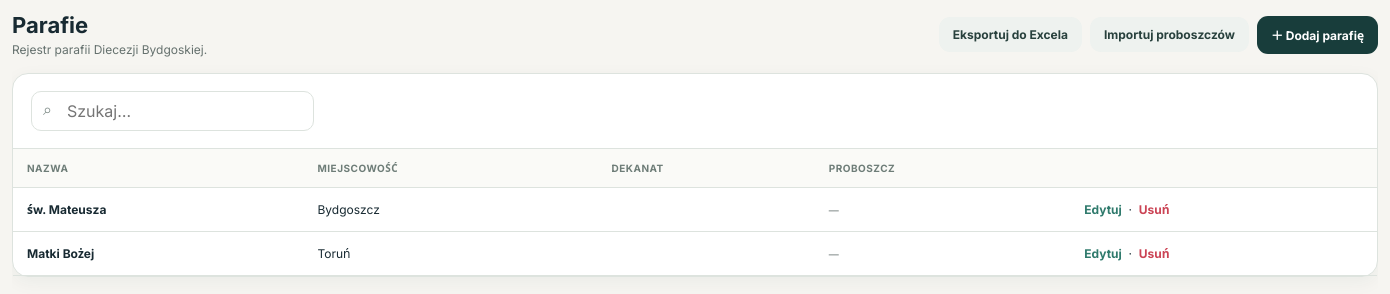
it: ParishesListComponent › filters the list by name or city while typing
This screenshot has width=1390, height=294.
Step 1. Type "toruń" into the field with placeholder "Szukaj…" → (172, 111), box [31, 91, 314, 131]
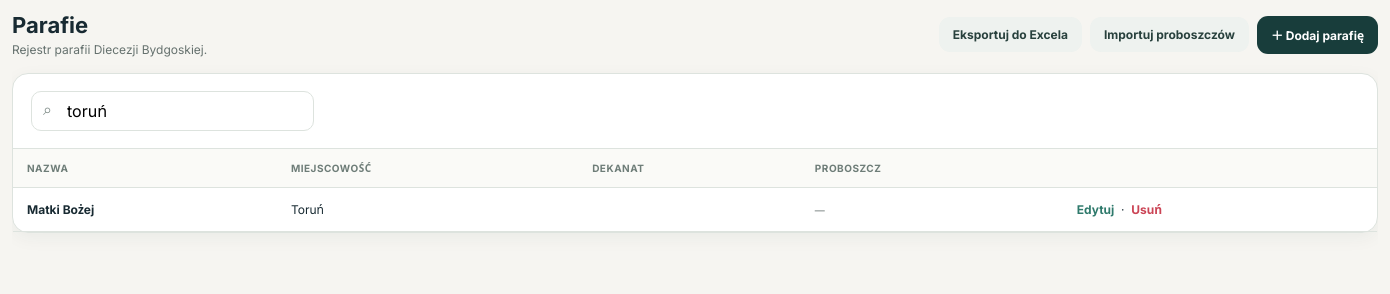
Expected: the text "Matki Bożej" is shown, [27, 202, 94, 217]
Result: the text "św. Mateusza" is gone
Step 2. Replace the text in the field with placeholder "Szukaj…" with "mateusza" → (172, 111), box [31, 91, 314, 131]
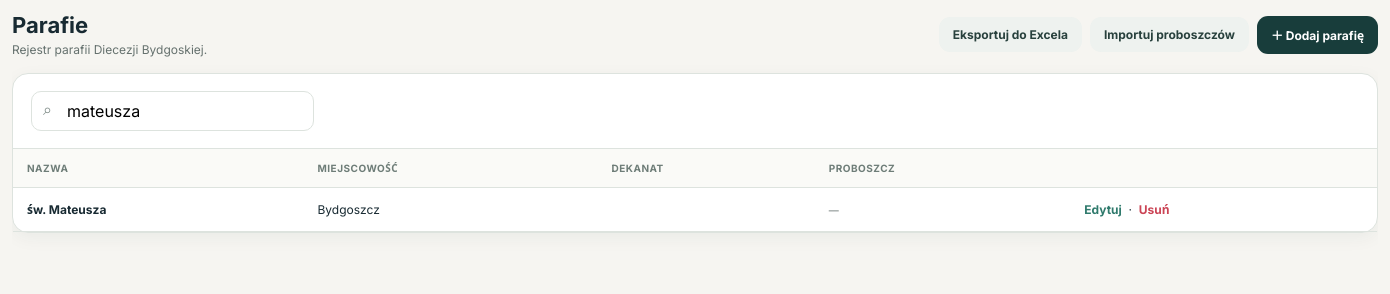
Result: the text "św. Mateusza" is shown at [27, 202, 106, 217]
Result: the text "Matki Bożej" is gone
